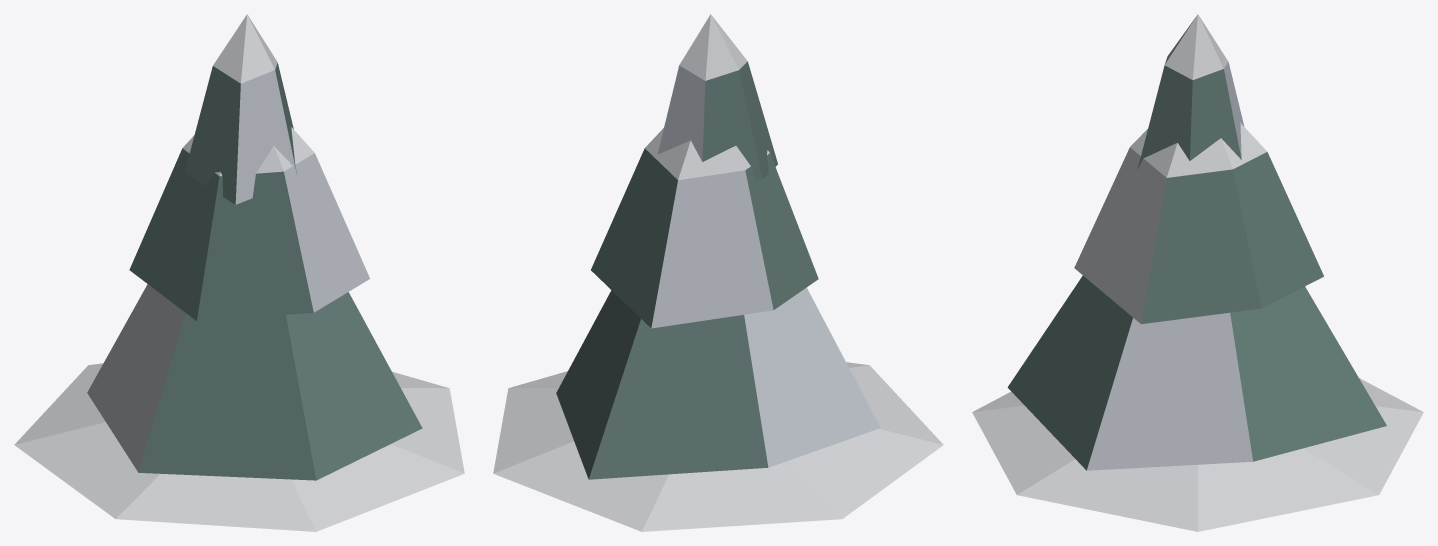
The model's file is taimi_1.glb.
3 views of the same model, side by side, from view 1: azimuth 30°, elevation 25°; view 2: azimuth 150°, elevation 25°; view 3: azimuth 270°, elevation 25° (orthographic).
Parts seen in each view (by area): view 1: taimi_1; view 2: taimi_1; view 3: taimi_1.
Boxes of the visible parts, x1,y1,x2,y2 form: taimi_1: (14, 14, 464, 531); taimi_1: (493, 14, 943, 531); taimi_1: (972, 14, 1423, 531).
Bounding box in the file's own units: 0.5703 × 0.6 × 0.585.
